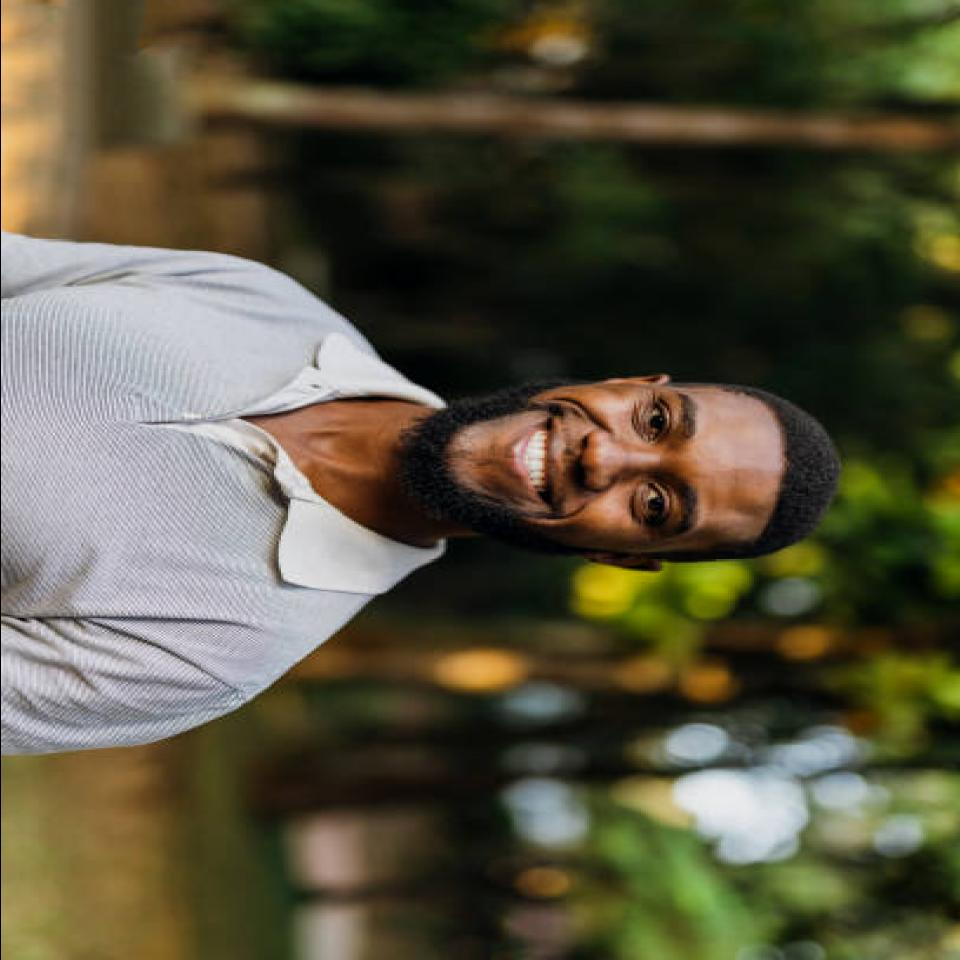Happiness: (436, 384, 776, 554)
